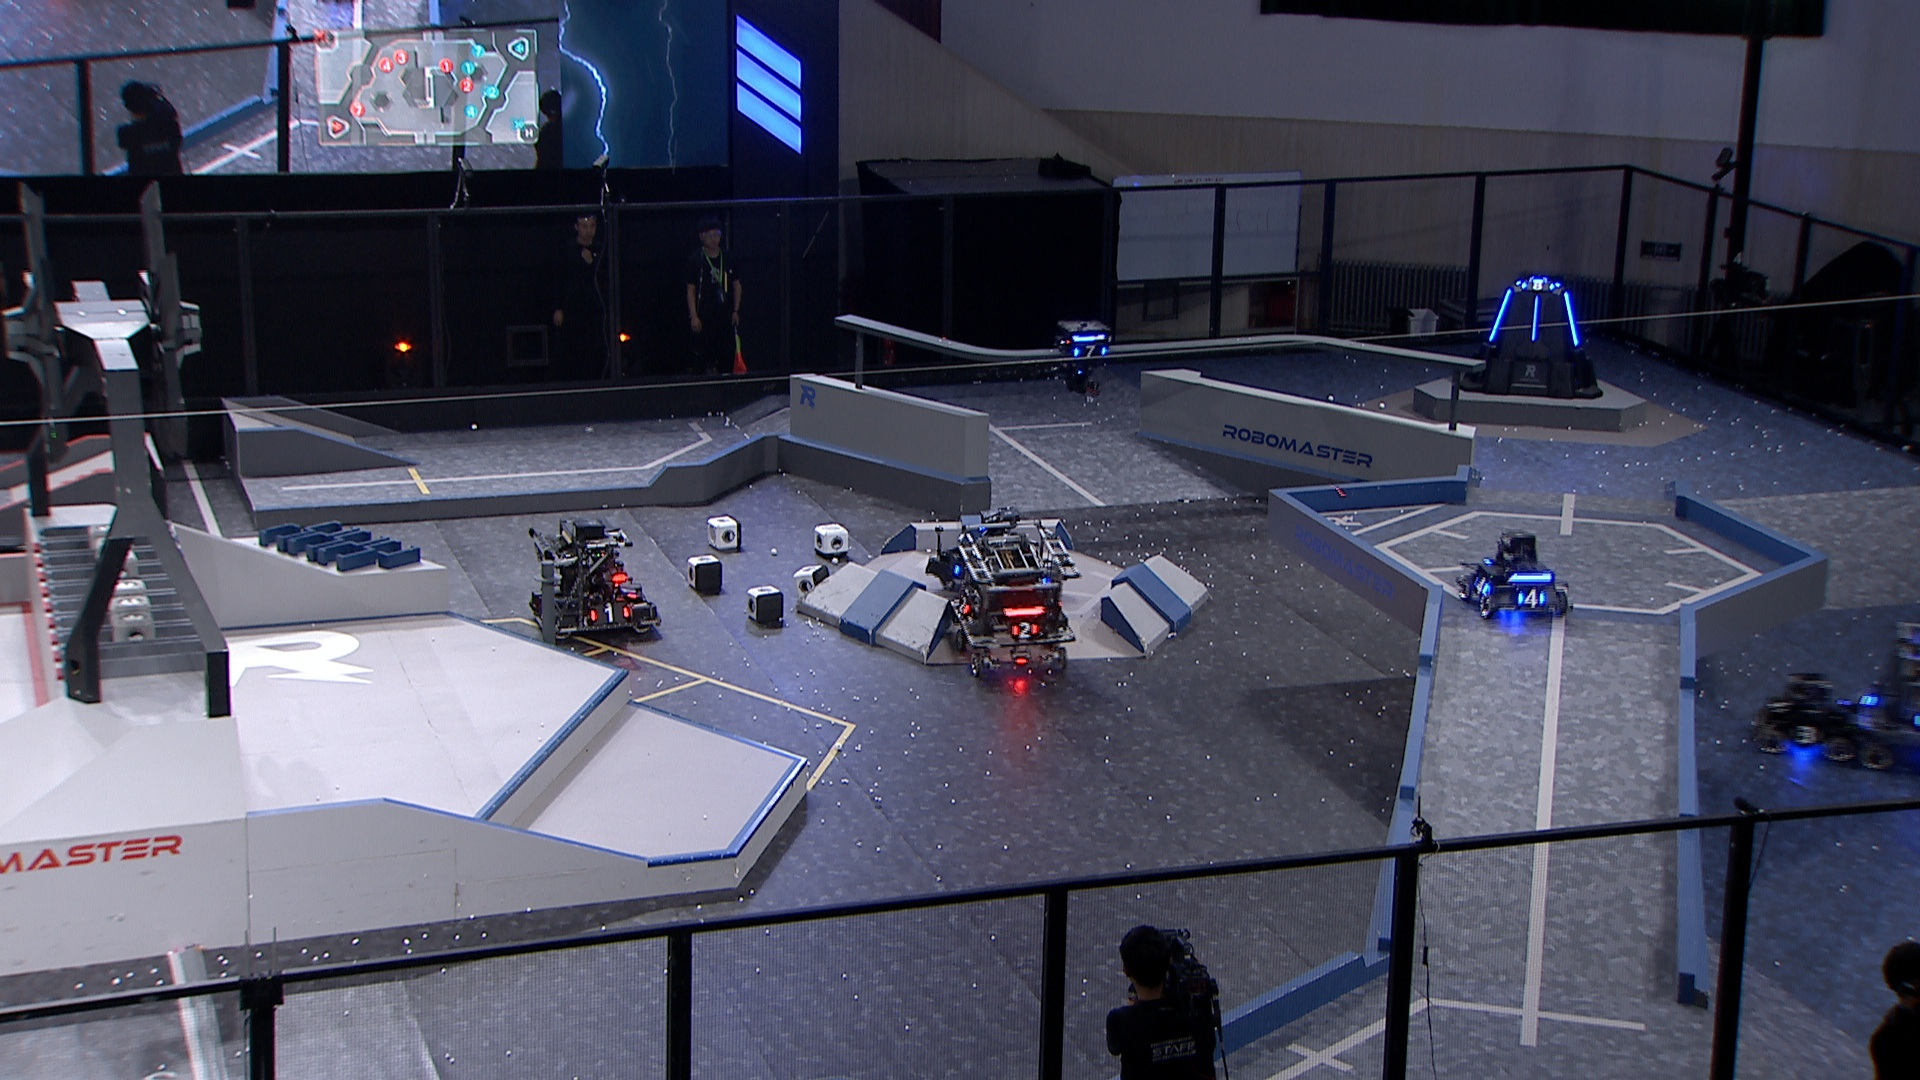armor: (1486, 286, 1514, 347), (1561, 289, 1582, 347), (585, 604, 632, 626), (1072, 343, 1112, 363), (1007, 618, 1039, 642), (1516, 585, 1547, 609), (1528, 295, 1542, 344), (1792, 725, 1820, 746), (1766, 695, 1789, 713), (1520, 280, 1556, 291), (1474, 574, 1491, 597), (953, 597, 972, 617), (618, 584, 640, 600)
base: (1455, 276, 1604, 401)
car: (942, 516, 1077, 680), (524, 529, 659, 646), (1455, 529, 1575, 618), (1854, 618, 1920, 774), (1754, 666, 1854, 767)
watcher: (1055, 319, 1116, 400)
